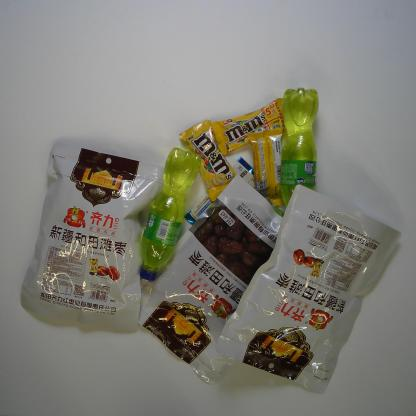Chocolate: (184, 155, 263, 238), (179, 119, 240, 203), (210, 97, 288, 157), (247, 128, 286, 209)
Dried Food: (213, 183, 403, 397), (132, 176, 296, 390), (20, 135, 167, 334)
Drink: (139, 147, 202, 282), (279, 87, 320, 228)
